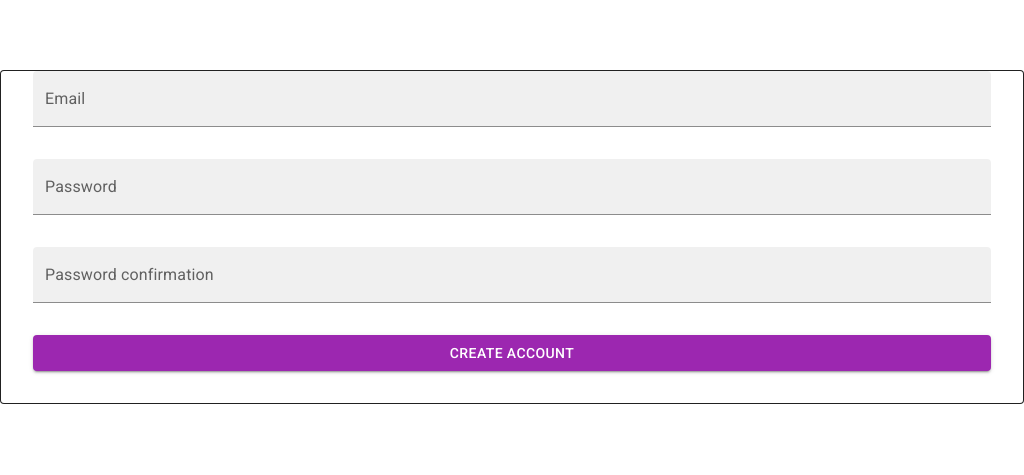
Test: pages/auth/BasicAuthRegister › should not submit the request if the password and confirmation do not match
This screenshot has width=1024, height=475.
In the field labelled "Email": (512, 99) [33,71,991,127], type "my-email@example.org"
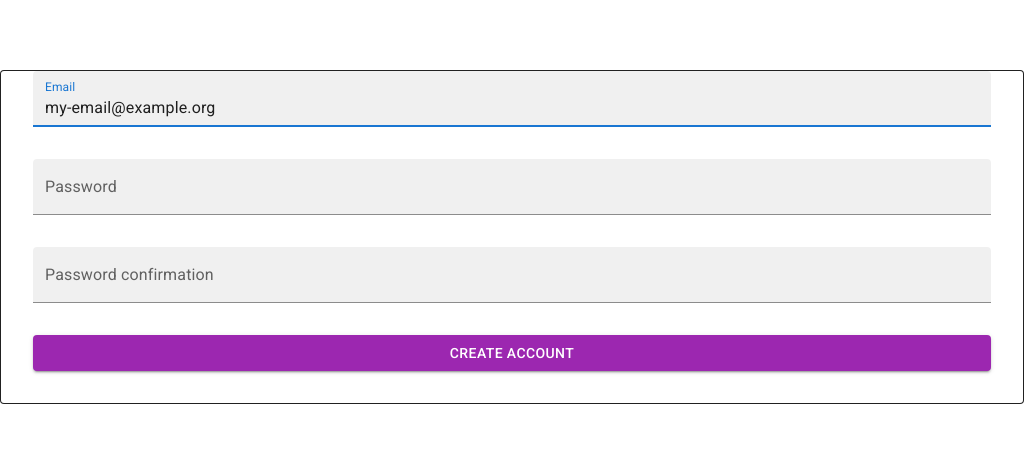
In the password field labelled "Password": (512, 187) [33,159,991,215], type "my-password"
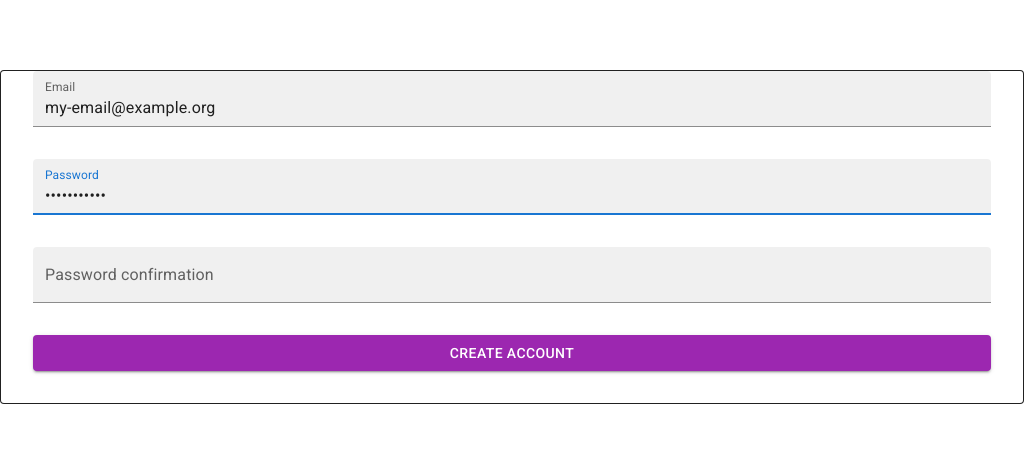
In the password field labelled "Password confirmation": (512, 275) [33,247,991,303], type "wrong-password"
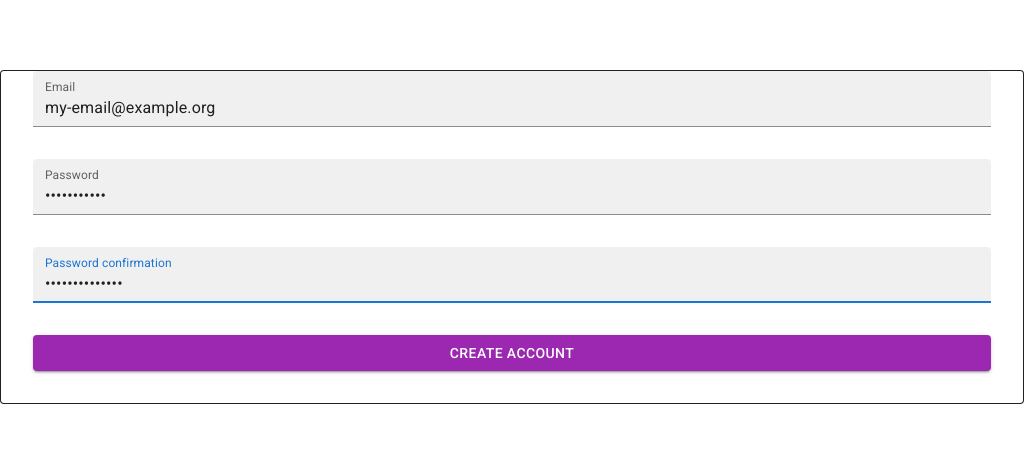
Click the button "Create account": (512, 353) [33,335,991,371]
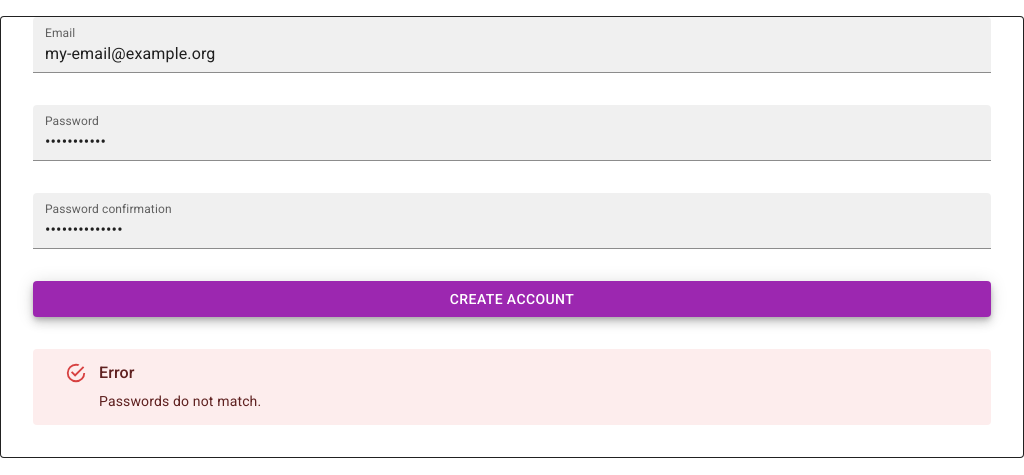
Result: the text "Passwords do not match." is shown at [99,391,261,411]
